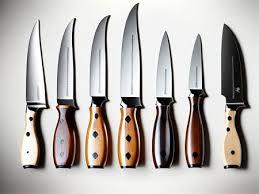Knife: (117, 2, 145, 168), (220, 22, 250, 168), (20, 18, 49, 168), (85, 14, 112, 168), (52, 17, 79, 168), (151, 30, 179, 168), (184, 33, 209, 167)
